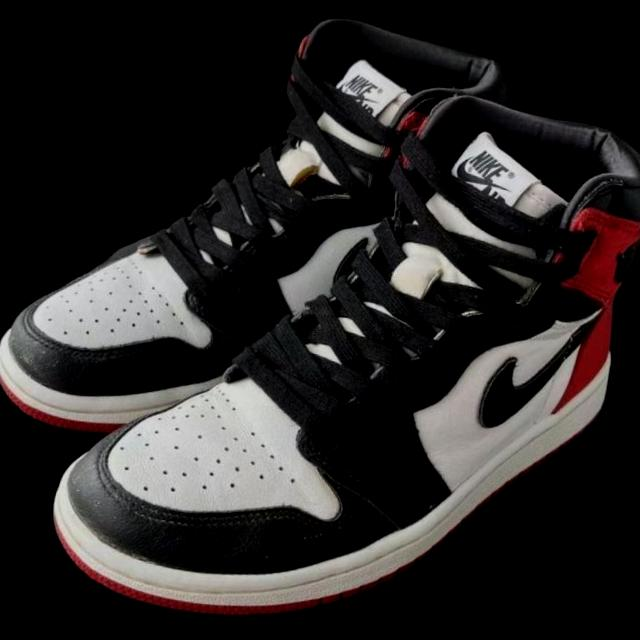nike_original_jordan: (38, 60, 640, 640), (0, 0, 518, 471)
